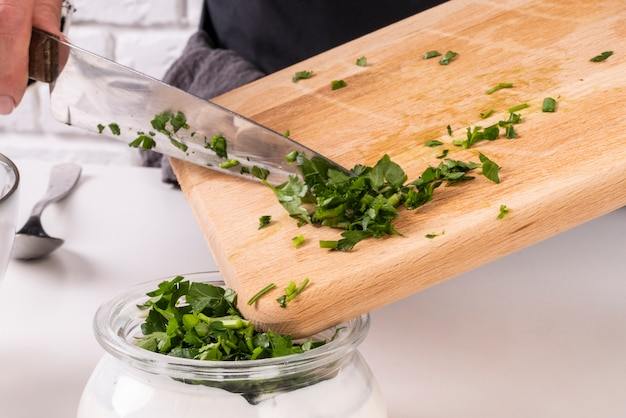knife: (28, 25, 361, 187)
